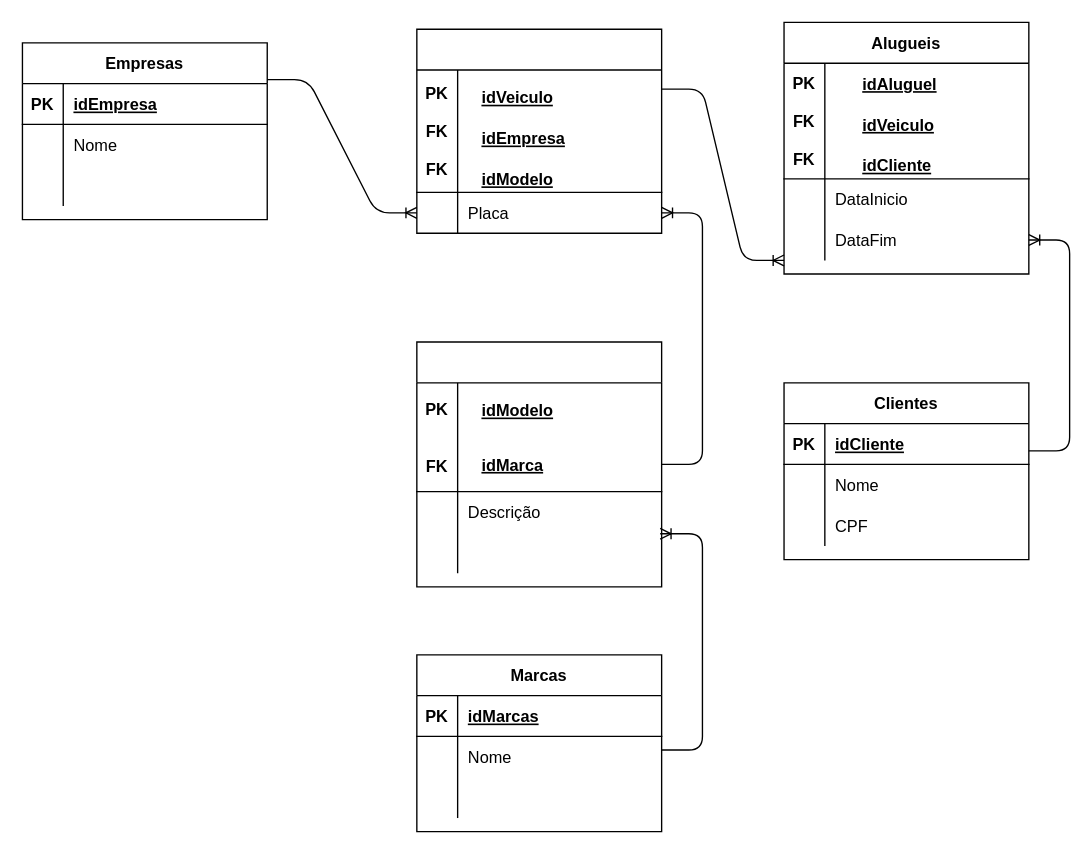
Image size: 1092x854. Some labels were removed from this diagram. Each missing label, with the box of its shape:
Modelos: (415, 341, 662, 587)
Veiculos: (415, 28, 662, 233)
